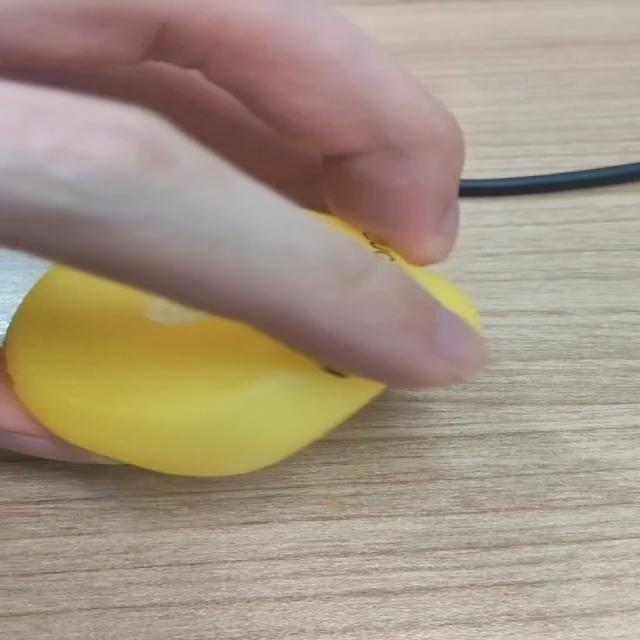rubber-duck: (5, 264, 383, 474), (390, 252, 478, 329)
